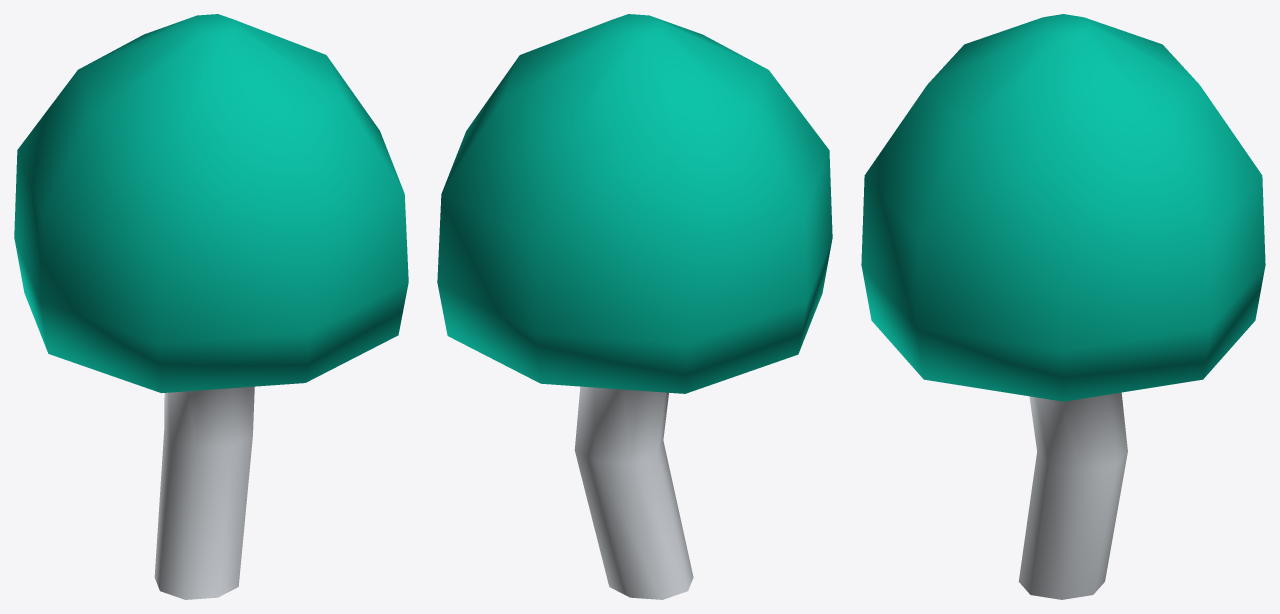
The model's file is Mashroom_23.fbx.
3 views of the same model, side by side, from view 1: azimuth 30°, elevation 25°; view 2: azimuth 150°, elevation 25°; view 3: azimuth 270°, elevation 25° (orthographic).
Visible parts, largest first — view 1: Mashroom_23; view 2: Mashroom_23; view 3: Mashroom_23.
Boxes of the visible parts, left/top/right/bottom form: Mashroom_23: left=14, top=14, right=408, bottom=599; Mashroom_23: left=437, top=14, right=832, bottom=599; Mashroom_23: left=861, top=14, right=1265, bottom=599.
Bounding box in the file's own units: 34.73 × 53.42 × 34.73.
